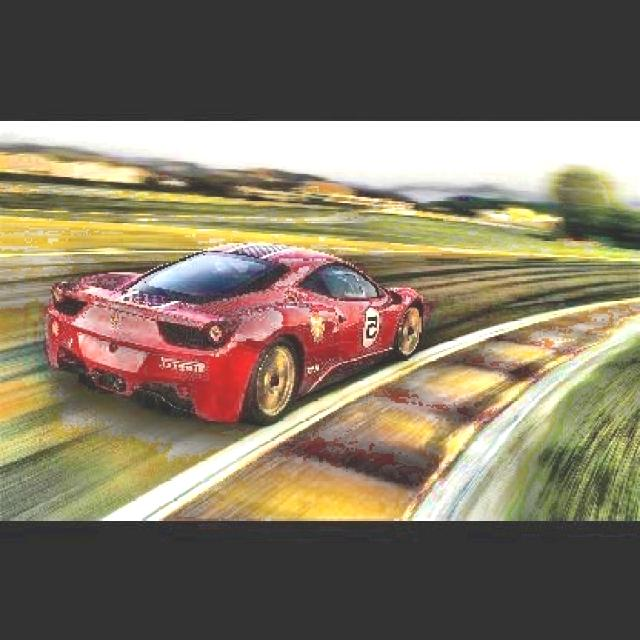maroon: (43, 237, 431, 415)
